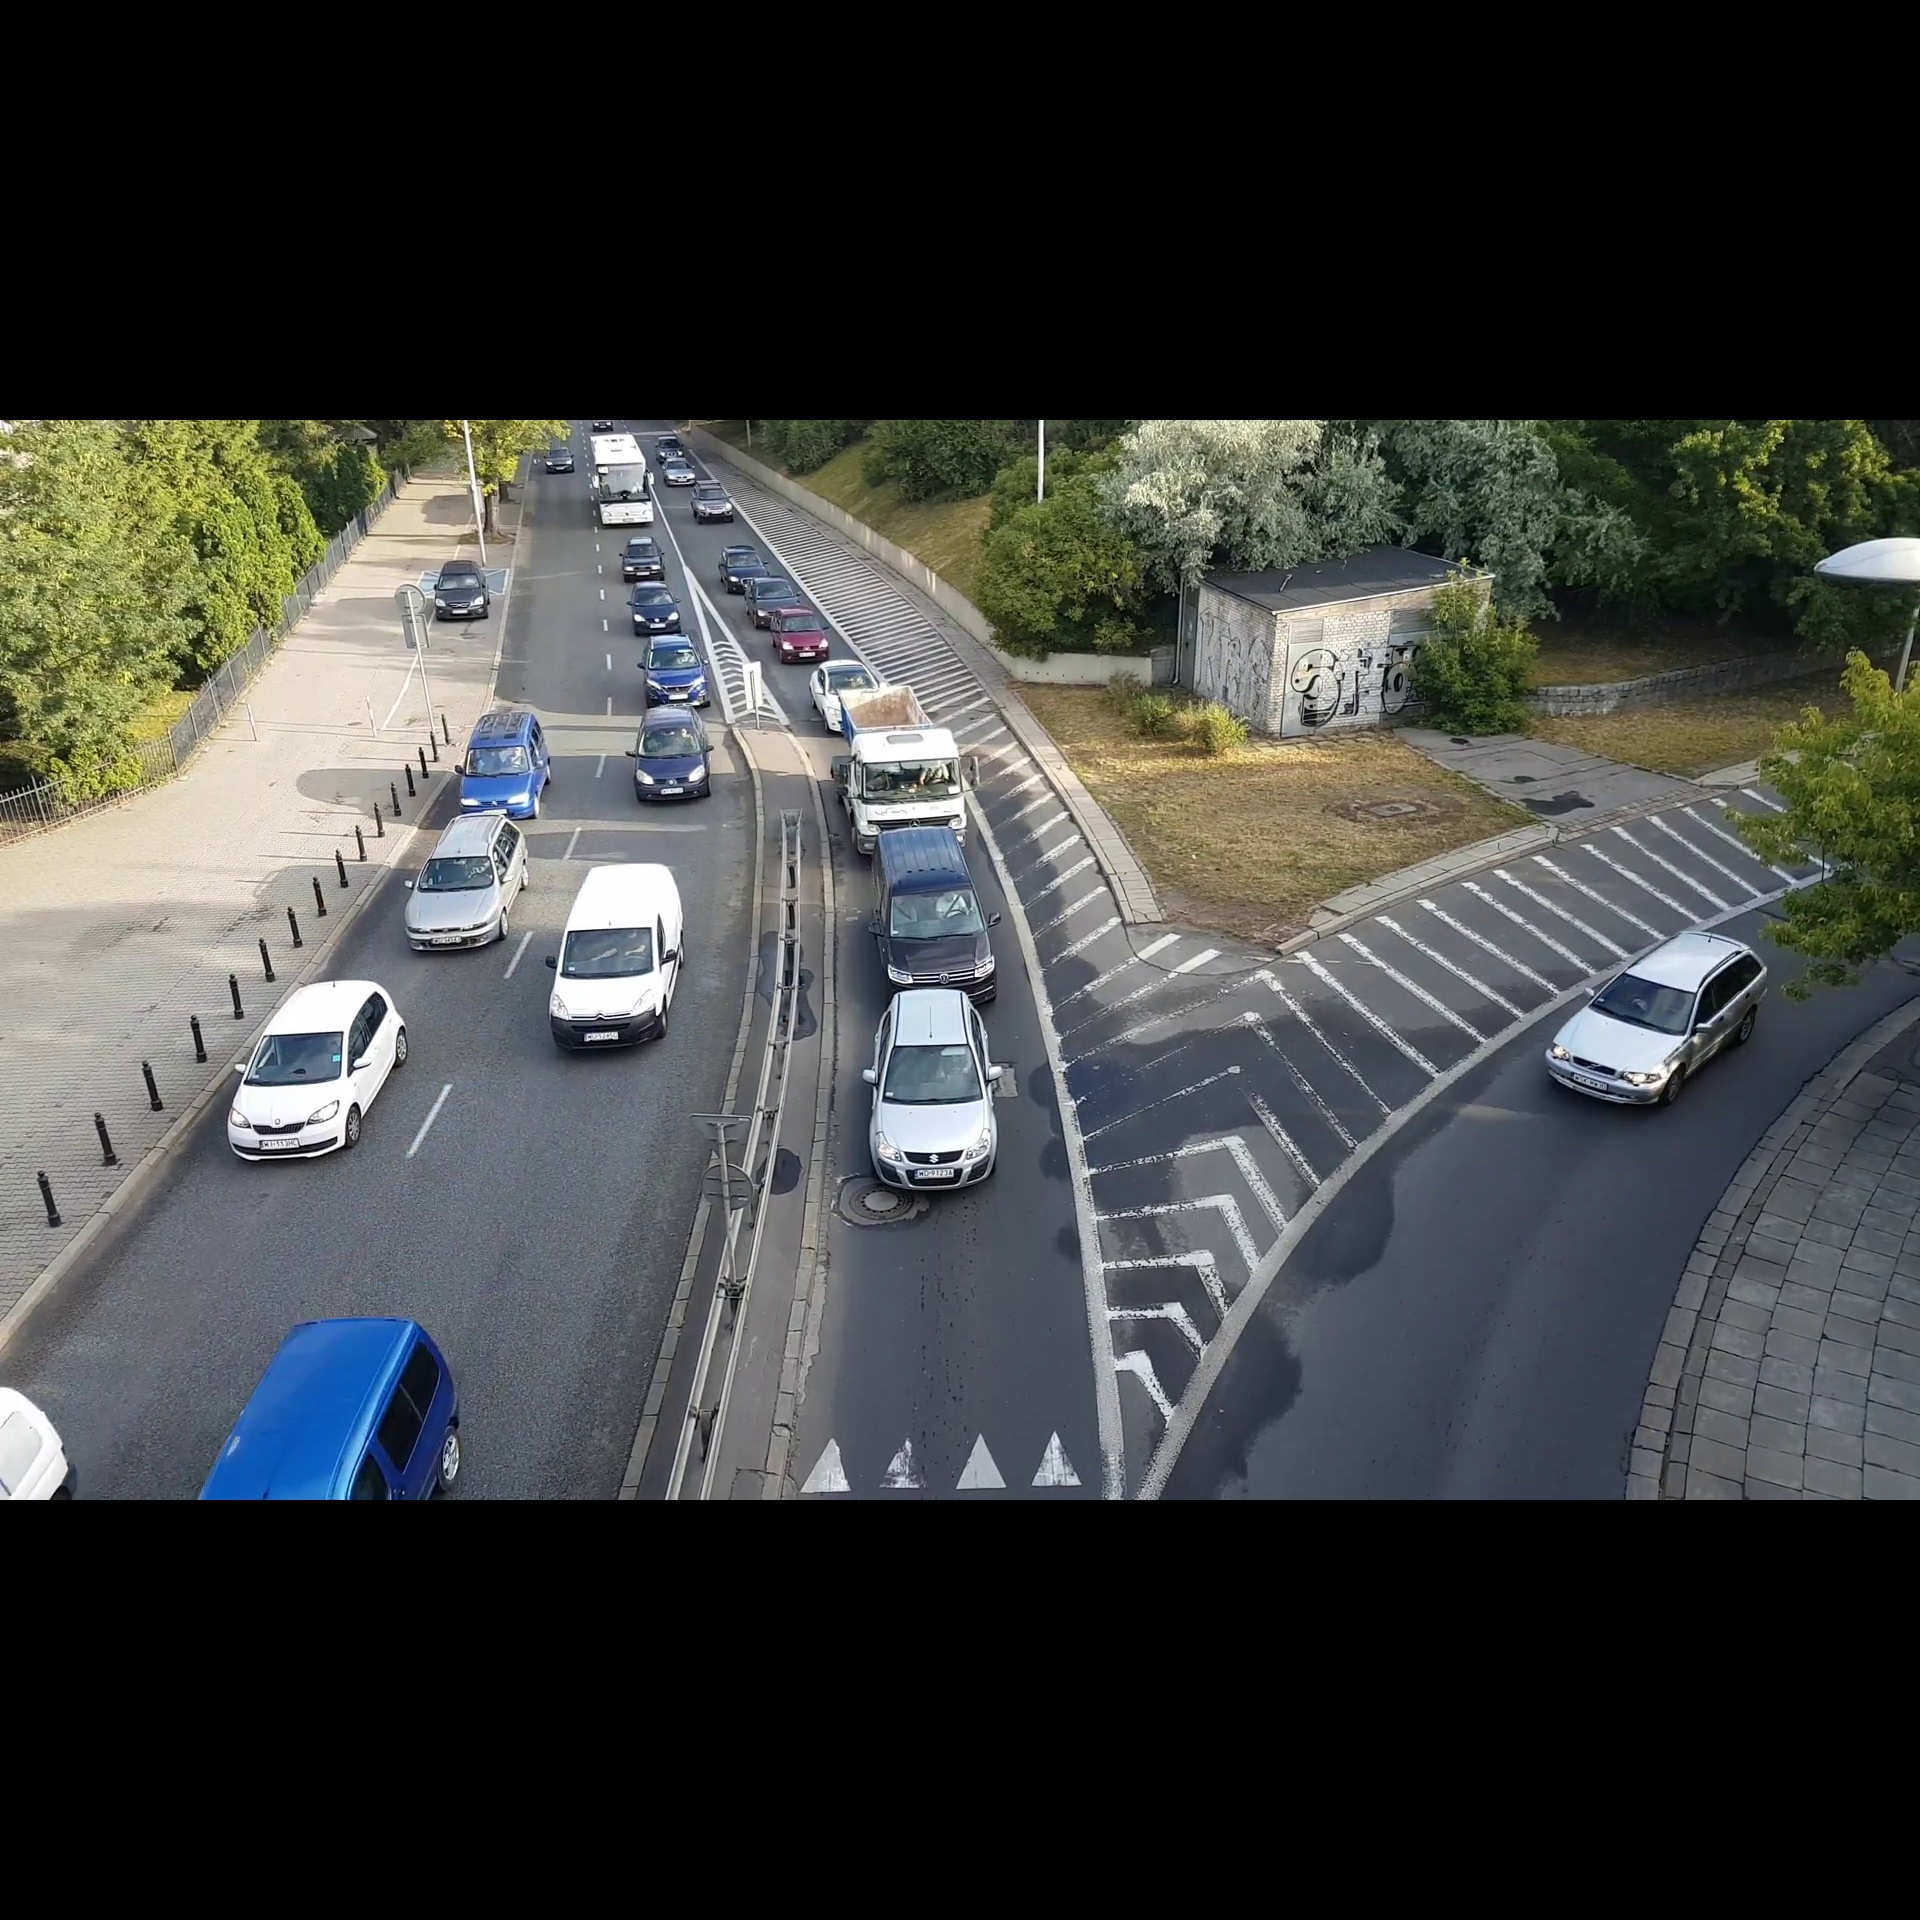vehicle: (183, 1310, 471, 1502), (1535, 920, 1781, 1122), (220, 972, 418, 1176), (855, 988, 1016, 1206), (536, 855, 693, 1060), (832, 682, 983, 842), (869, 823, 1013, 988), (397, 804, 535, 964), (452, 702, 564, 818), (622, 703, 723, 811), (587, 433, 658, 529), (635, 631, 709, 710), (807, 658, 881, 726), (427, 554, 494, 622), (767, 605, 832, 670), (626, 580, 682, 633), (744, 573, 802, 612), (716, 542, 772, 580), (689, 478, 735, 526), (621, 535, 666, 580), (663, 457, 696, 487), (543, 445, 577, 475), (652, 434, 686, 457)
